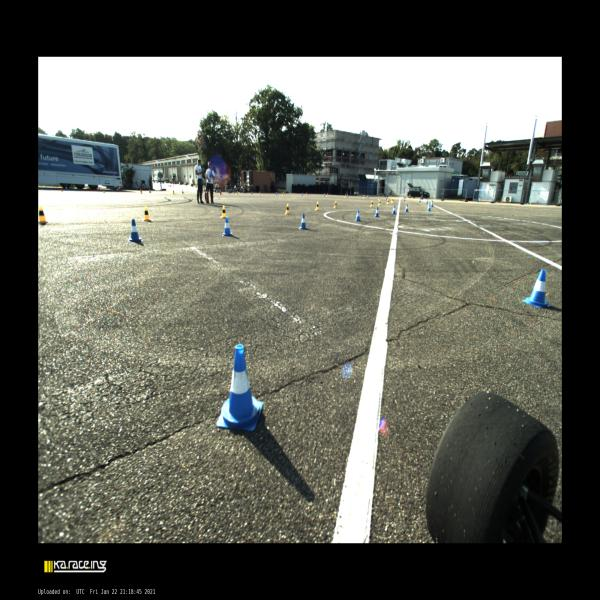blue_cone: (216, 345, 262, 430), (522, 270, 549, 307), (128, 219, 143, 242), (222, 217, 233, 236), (299, 214, 307, 229), (355, 210, 360, 221), (374, 207, 379, 217), (392, 205, 396, 214), (404, 204, 408, 212), (427, 205, 431, 211), (431, 201, 433, 207), (418, 198, 421, 202), (426, 199, 428, 204), (367, 194, 369, 199), (149, 188, 151, 193), (182, 189, 184, 194), (404, 197, 406, 201), (276, 192, 278, 195), (251, 192, 253, 194), (386, 196, 387, 200), (302, 192, 303, 195), (324, 193, 325, 196), (347, 194, 348, 197), (229, 192, 230, 194)
yellow_cone: (38, 205, 48, 223), (143, 206, 151, 220), (220, 205, 226, 218), (285, 204, 290, 214), (315, 202, 319, 210), (333, 201, 337, 208), (370, 200, 373, 207), (378, 199, 380, 206), (386, 200, 389, 204), (140, 189, 142, 194), (363, 195, 365, 199), (392, 199, 394, 203), (378, 196, 380, 200), (326, 193, 328, 197), (344, 194, 346, 198), (259, 192, 261, 196), (282, 192, 284, 196), (236, 191, 238, 195), (388, 197, 390, 201), (306, 192, 307, 196), (173, 190, 174, 194)
